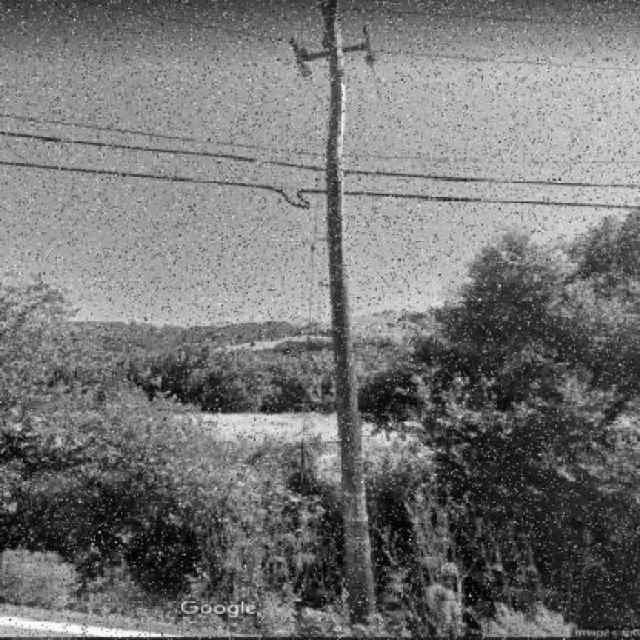pole: (232, 2, 459, 626)
